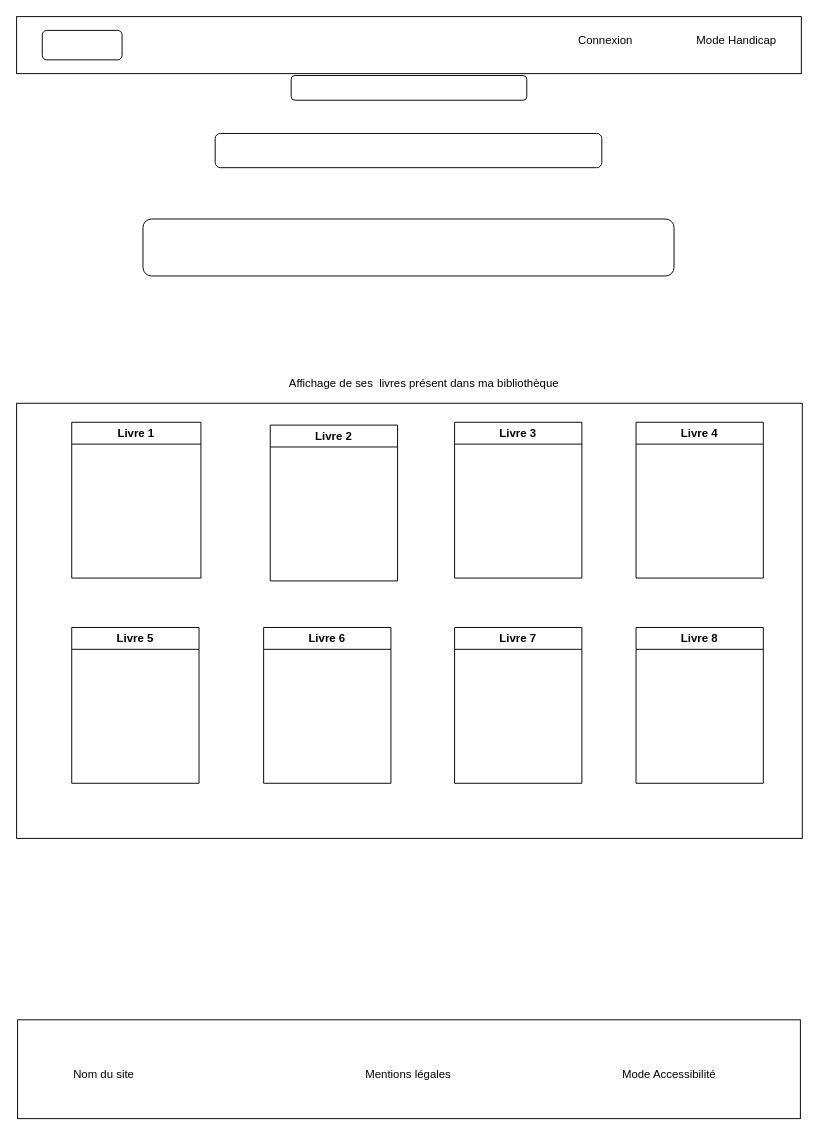
Image size: 819x1135. Some labels were removed from this diagram. The centre of each missing label's shape, as x and y in pixels:
"Logo" belongs at [81,44].
"Moteur de recherche" belongs at [408,87].
"Nom de l'auteur" belongs at [408,150].
"Présentation rapide de l'auteur" belongs at [408,247].
